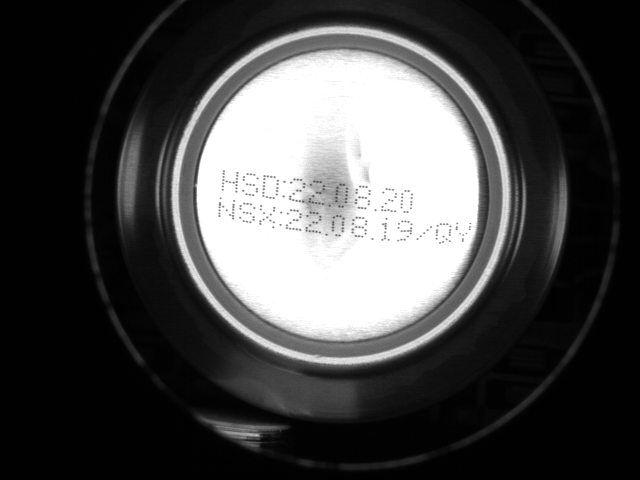/: (416, 222, 438, 246)
0: (398, 190, 420, 214), (335, 178, 351, 209), (332, 215, 347, 243)
1: (379, 217, 392, 245)
2: (306, 211, 326, 239), (291, 174, 309, 205), (286, 207, 304, 236), (313, 178, 331, 206), (381, 187, 397, 212)
8: (352, 215, 370, 244), (356, 183, 373, 211)
9: (397, 218, 414, 245)
D: (262, 175, 283, 199)
H: (221, 168, 244, 195)
N: (219, 198, 238, 223)
Q: (437, 223, 455, 247)
S: (240, 202, 257, 230), (245, 172, 262, 199)
X: (260, 205, 278, 230)
Y: (457, 219, 475, 246)
